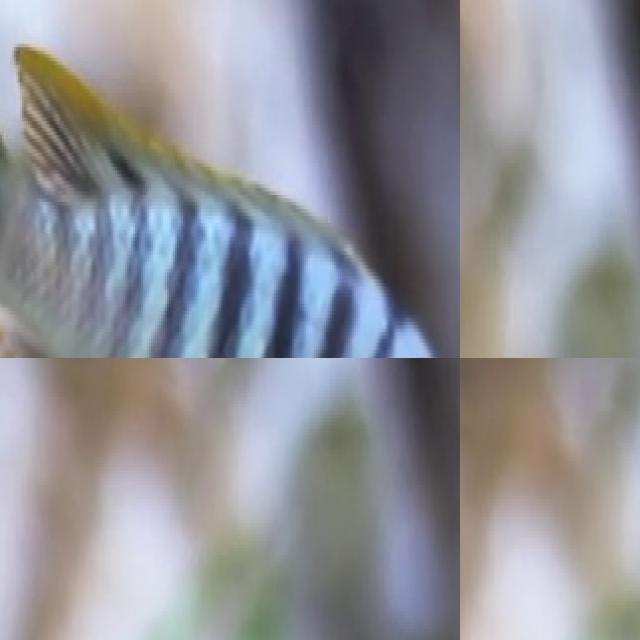fish: (0, 0, 460, 358), (460, 275, 640, 358)
